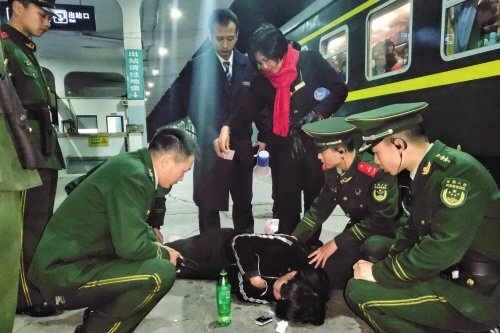falling: (144, 216, 347, 323)
